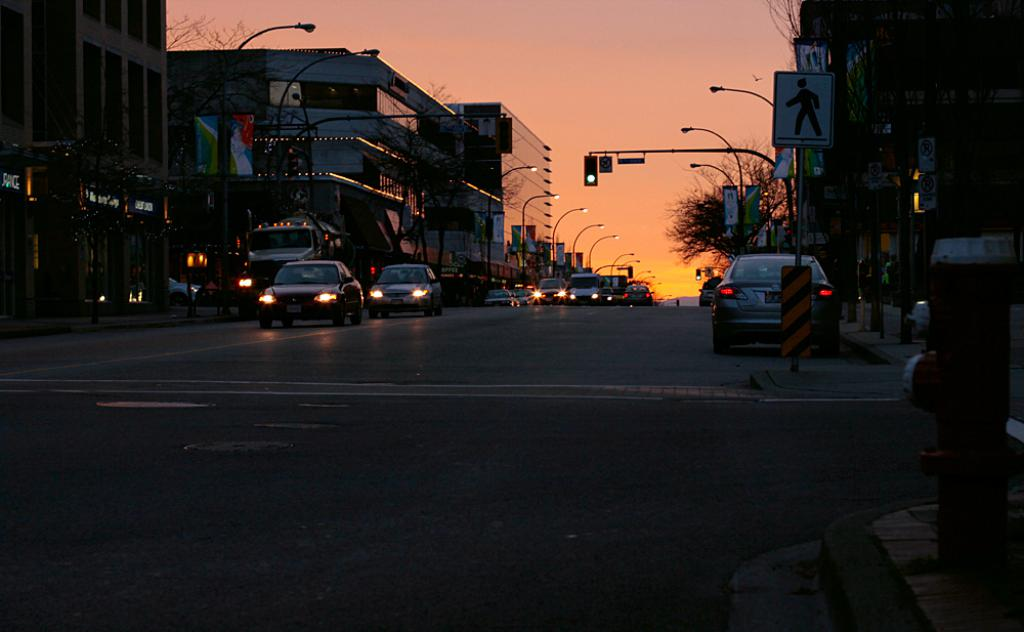cars: (697, 239, 826, 354), (255, 255, 363, 327), (366, 261, 448, 317), (562, 269, 601, 305), (532, 270, 567, 303), (476, 282, 518, 305), (623, 279, 654, 306)
